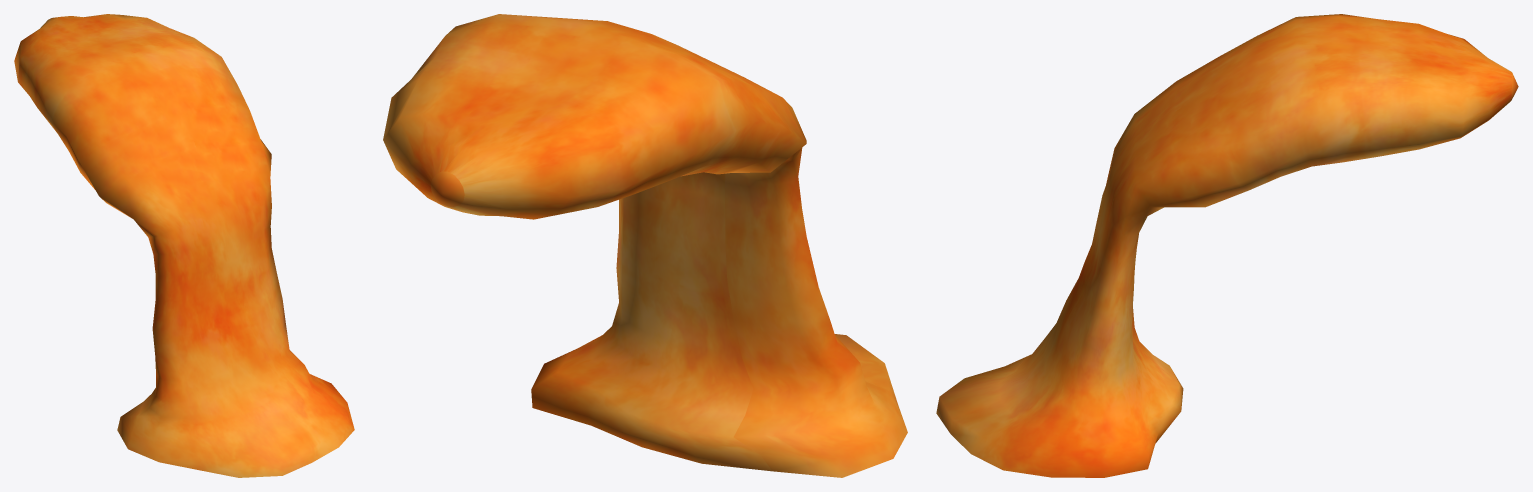
File: LavaEnd.fbx
The picture shows the model from 3 angles, left to right: view 1: azimuth 30°, elevation 25°; view 2: azimuth 150°, elevation 25°; view 3: azimuth 270°, elevation 25°; orthographic projection. The views are drawn at different scales.
Parts seen in each view (by area): view 1: Lawa; view 2: Lawa; view 3: Lawa.
Boxes of the visible parts, x1,y1,x2,y2 form: Lawa: [14, 14, 354, 477]; Lawa: [383, 14, 907, 477]; Lawa: [936, 14, 1518, 477].
Size of the model in its own units: 0.5364 by 0.7511 by 1.06.
